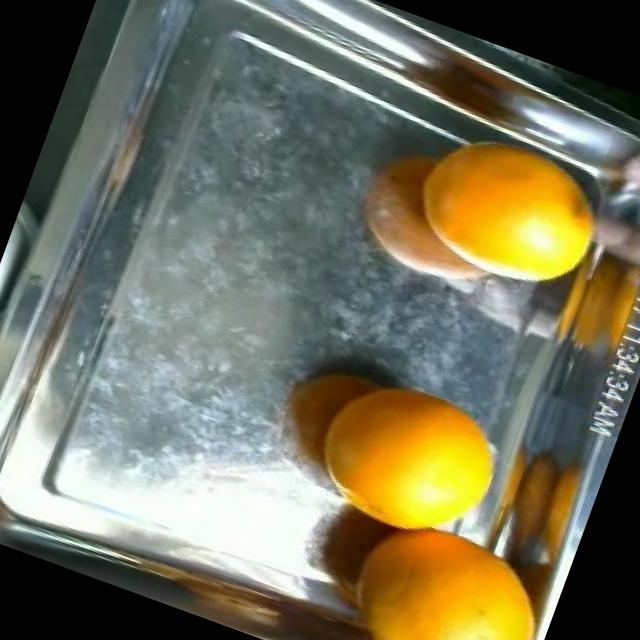Fruit: (278, 336, 540, 567), (386, 109, 634, 316)
